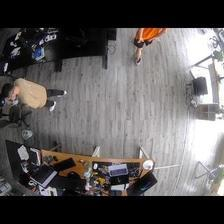normal: (1, 78, 68, 113), (133, 27, 165, 64)
